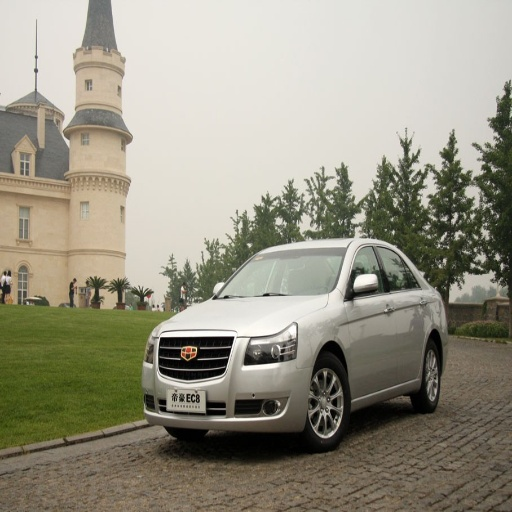front_bumper: (141, 329, 314, 429)
front_glass: (215, 250, 344, 298)
front_left_door: (346, 242, 399, 396)
